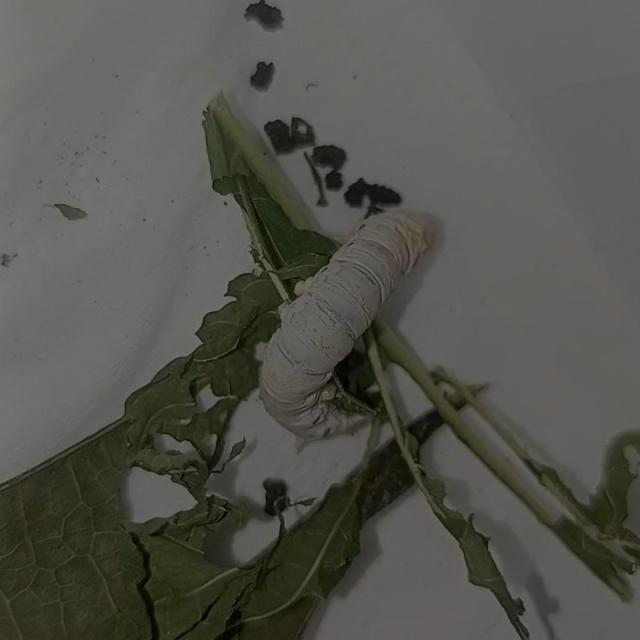Healthy: (242, 159, 497, 489)
